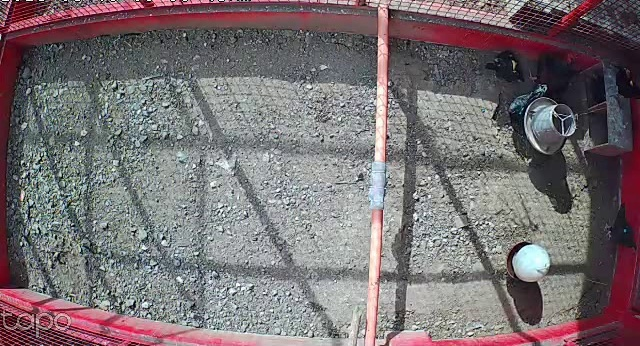Chicken: (601, 203, 639, 257), (485, 46, 530, 85), (507, 84, 550, 122), (614, 65, 640, 106)
Rooster: (528, 53, 580, 103)
Saddle_Color_Yellow: (509, 58, 518, 71)
